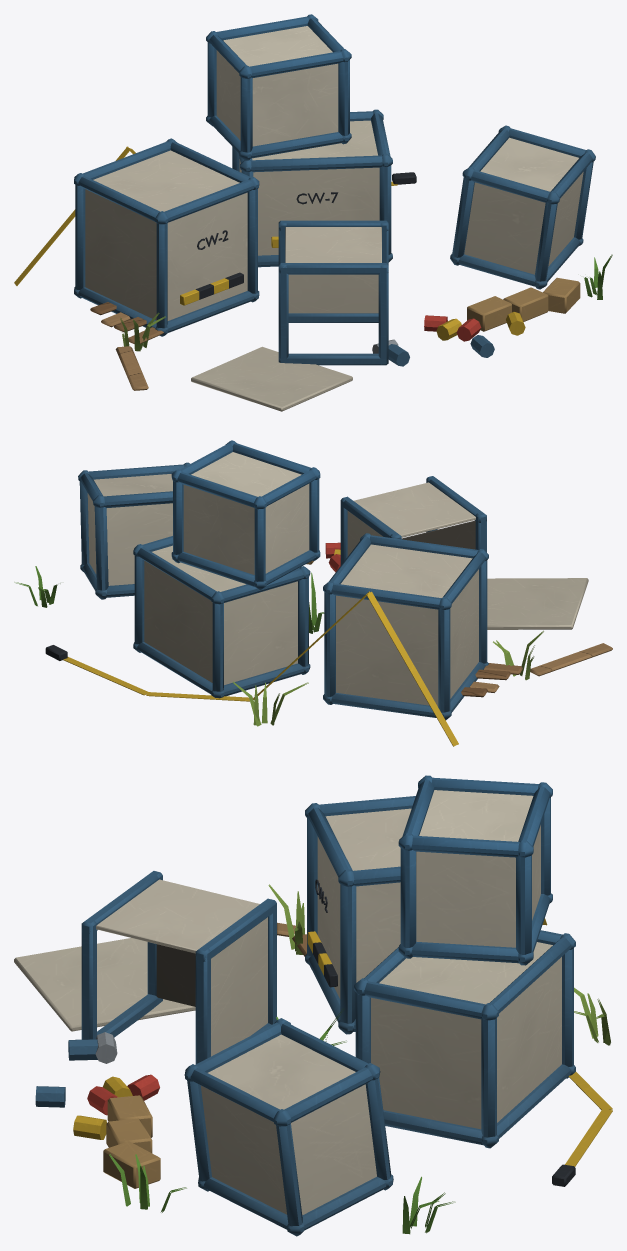
The model's file is dropped_cargo_spill.glb.
The picture shows the model from 3 angles, top to bottom: view 1: azimuth 30°, elevation 25°; view 2: azimuth 150°, elevation 25°; view 3: azimuth 270°, elevation 25°; orthographic projection. The views are drawn at different scales.
Parts seen in each view (by area): view 1: dropped_cargo_spill; view 2: dropped_cargo_spill; view 3: dropped_cargo_spill.
Part boxes in pixels (x1,y1,x2,y2): dropped_cargo_spill: (14,14,612,411); dropped_cargo_spill: (14,440,612,746); dropped_cargo_spill: (14,775,612,1236).
Bounding box in the file's own units: 3.48 × 1.4 × 2.73.
Materials: 17 (17 with a texture image).
